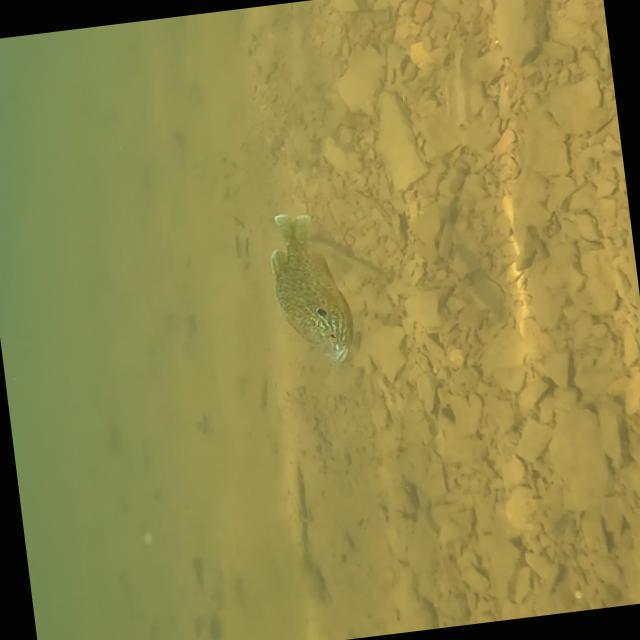Gunes Levregi: (264, 203, 364, 375)
